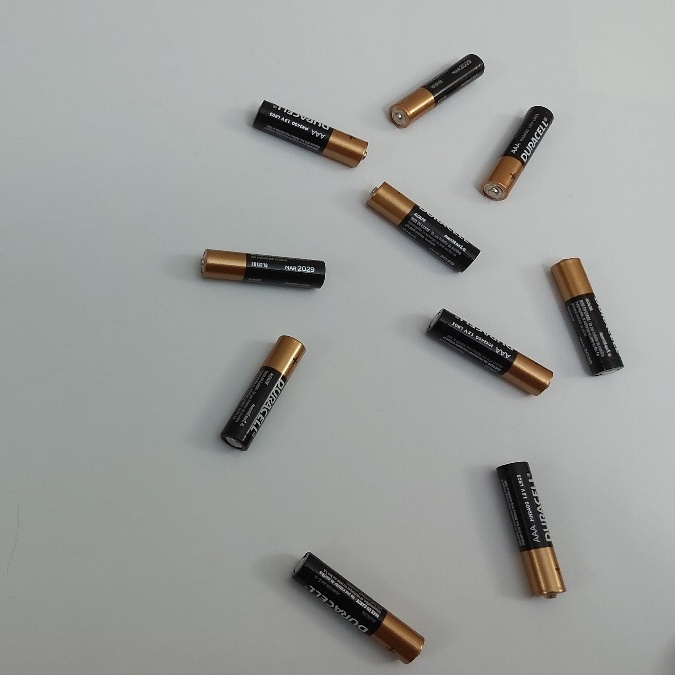battery: (288, 543, 427, 667), (422, 309, 554, 402), (364, 178, 479, 279), (495, 456, 569, 605), (219, 329, 303, 453), (551, 251, 631, 377), (246, 100, 376, 169), (386, 51, 484, 128), (482, 100, 555, 201), (196, 244, 334, 292)
